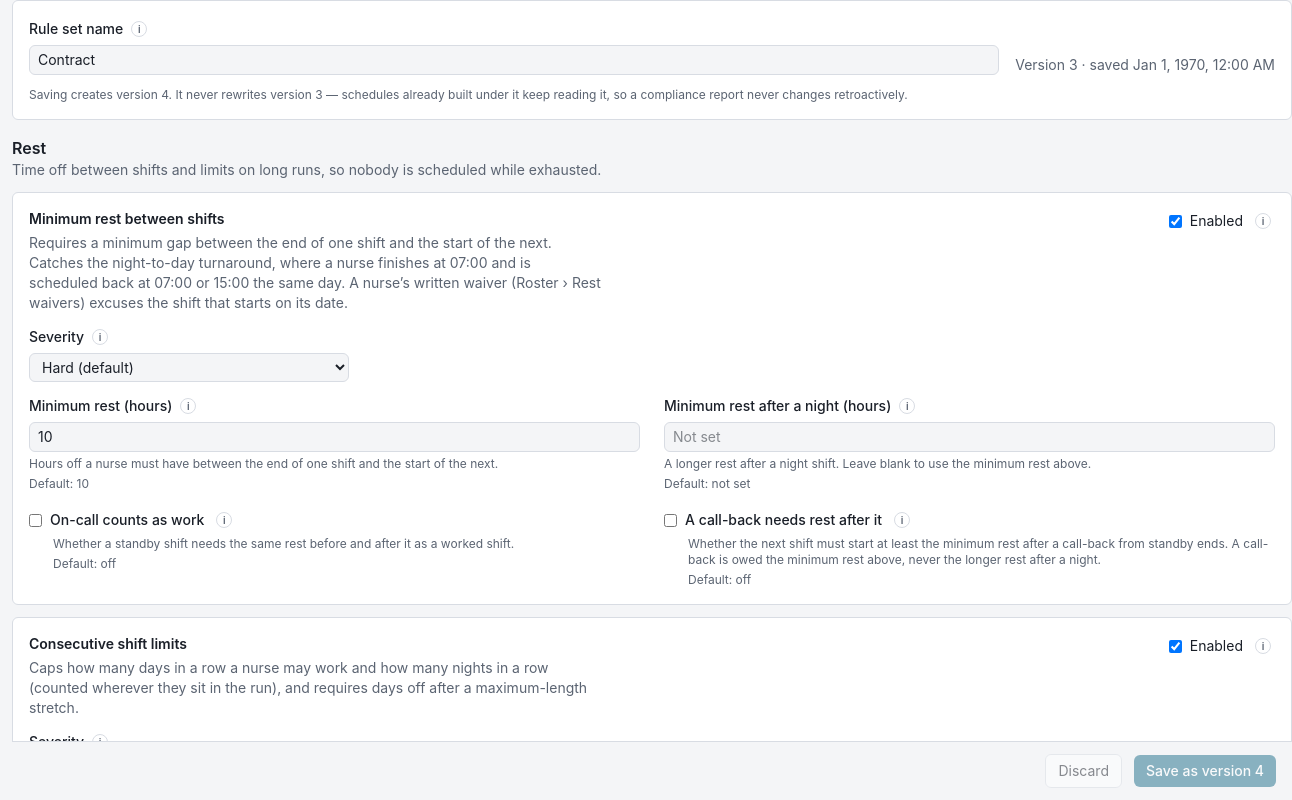
editing the contract rules › saves a new version carrying the longer rest the manager typed
Replace the text in the number field labelled "Minimum rest (hours)" with "12" at x=334, y=437, box [29,422,640,452]
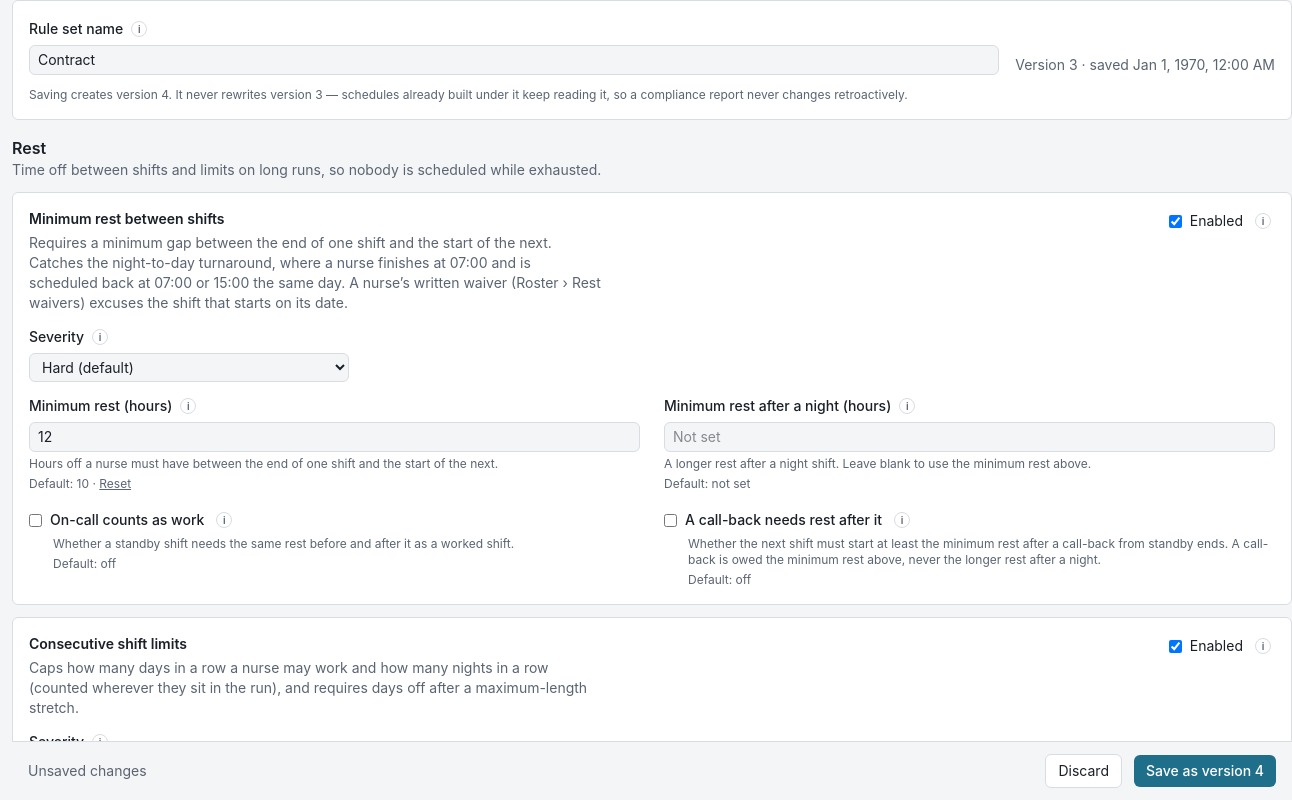
Expected: the text "Unsaved changes" is shown, [28,761,147,781]
Expected: the button "Save as version 4" is enabled
Click the button "Save as version 4" at x=1205, y=771, box [1134,755,1276,787]
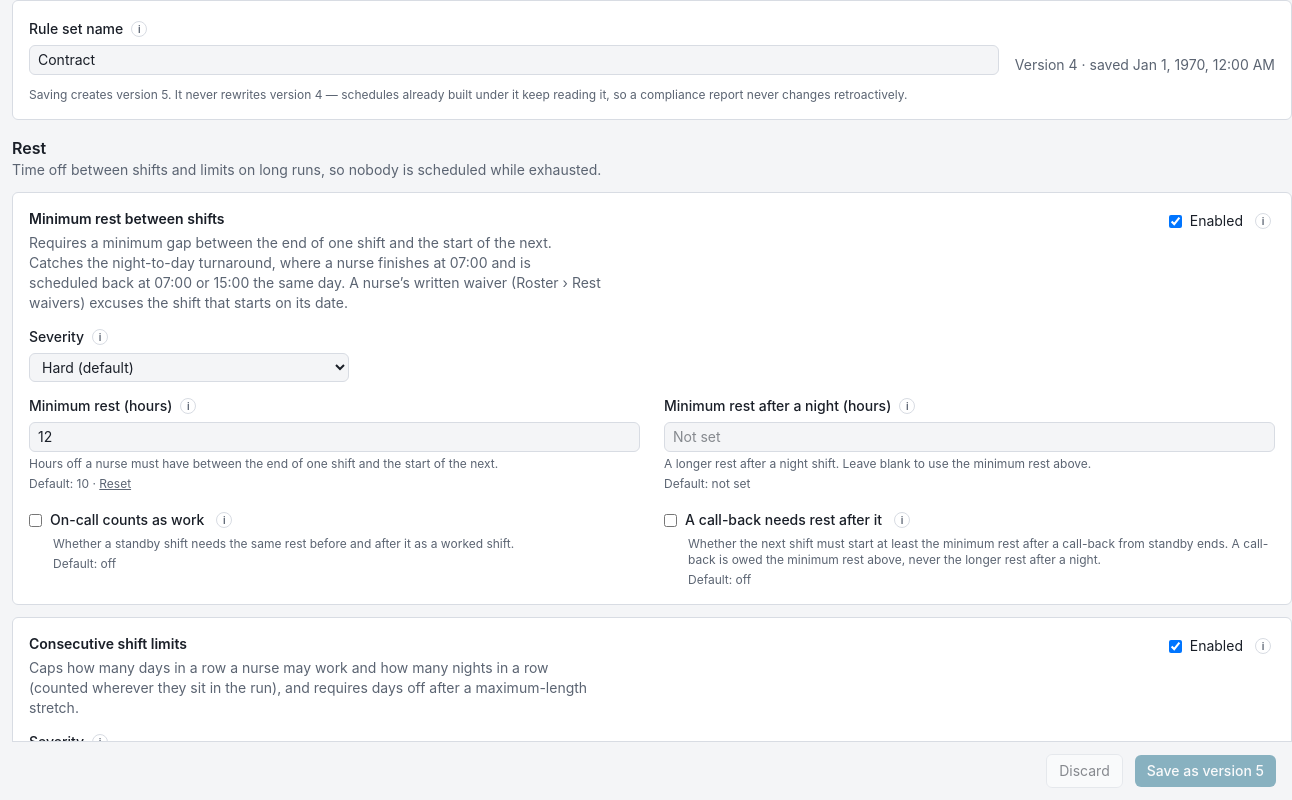
Expected: the button "Save as version 5" is shown, [1135,755,1276,787]
Expected: the button "Save as version 5" is disabled, [1135,755,1276,787]
